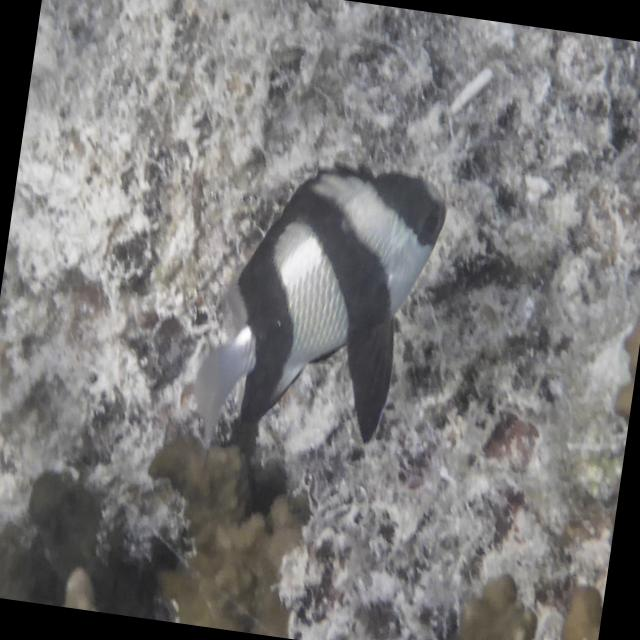ThreeStripedDamselfish: (182, 135, 456, 492)
